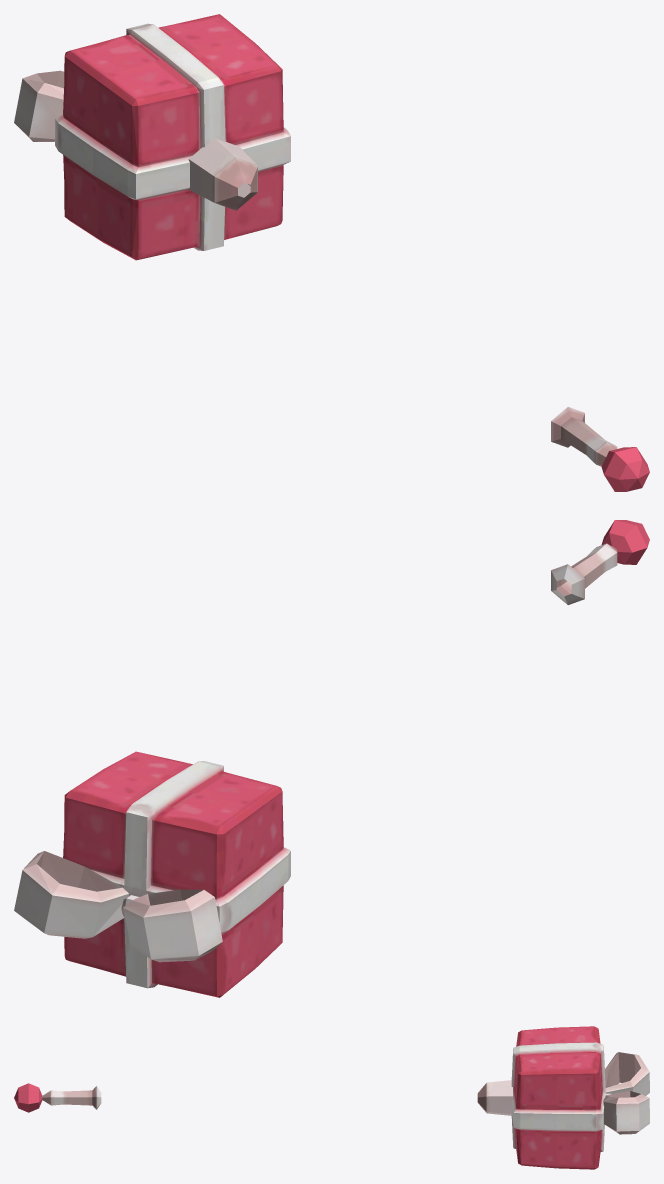
File: Bison_bdWeapon.obj
3 views of the same model, one above another, from view 1: azimuth 30°, elevation 25°; view 2: azimuth 150°, elevation 25°; view 3: azimuth 270°, elevation 25° (orthographic). The views are drawn at different scales.
Visible parts, largest first — view 1: Bison_bdWeapon_tri; view 2: Bison_bdWeapon_tri; view 3: Bison_bdWeapon_tri.
Boxes of the visible parts, x1,y1,x2,y2 form: Bison_bdWeapon_tri: (14, 14, 649, 491); Bison_bdWeapon_tri: (14, 520, 649, 997); Bison_bdWeapon_tri: (14, 1026, 649, 1169).
Bounding box in the file's own units: 0.8743 × 0.7674 × 4.22.
Materials: 1 (1 with a texture image).
